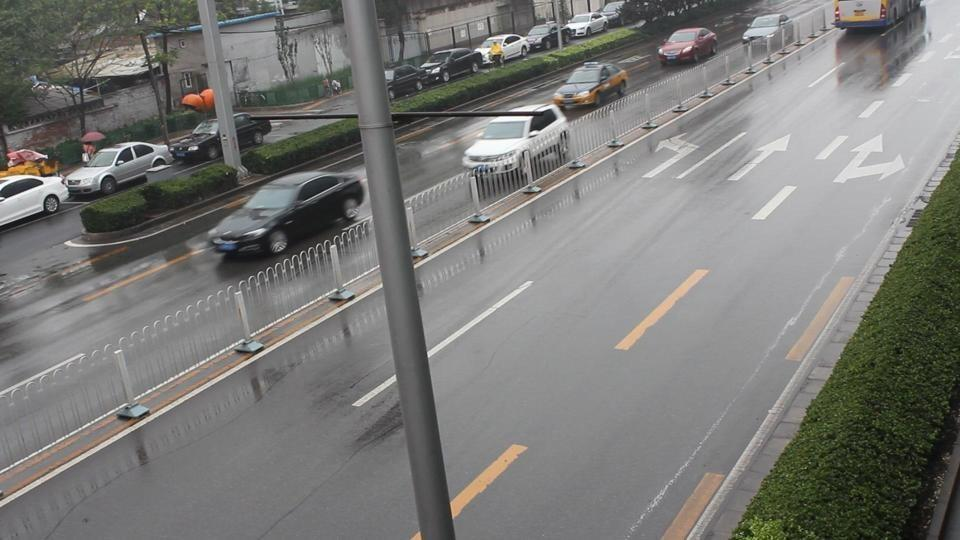car: (208, 171, 365, 256), (461, 103, 572, 177), (64, 141, 175, 199), (739, 0, 835, 54), (172, 113, 272, 159), (1, 173, 69, 230), (552, 61, 629, 110), (656, 27, 718, 65), (420, 48, 485, 82), (383, 63, 444, 99), (475, 33, 528, 67), (741, 13, 791, 46), (525, 21, 571, 52), (564, 12, 609, 39), (4, 148, 52, 171)
